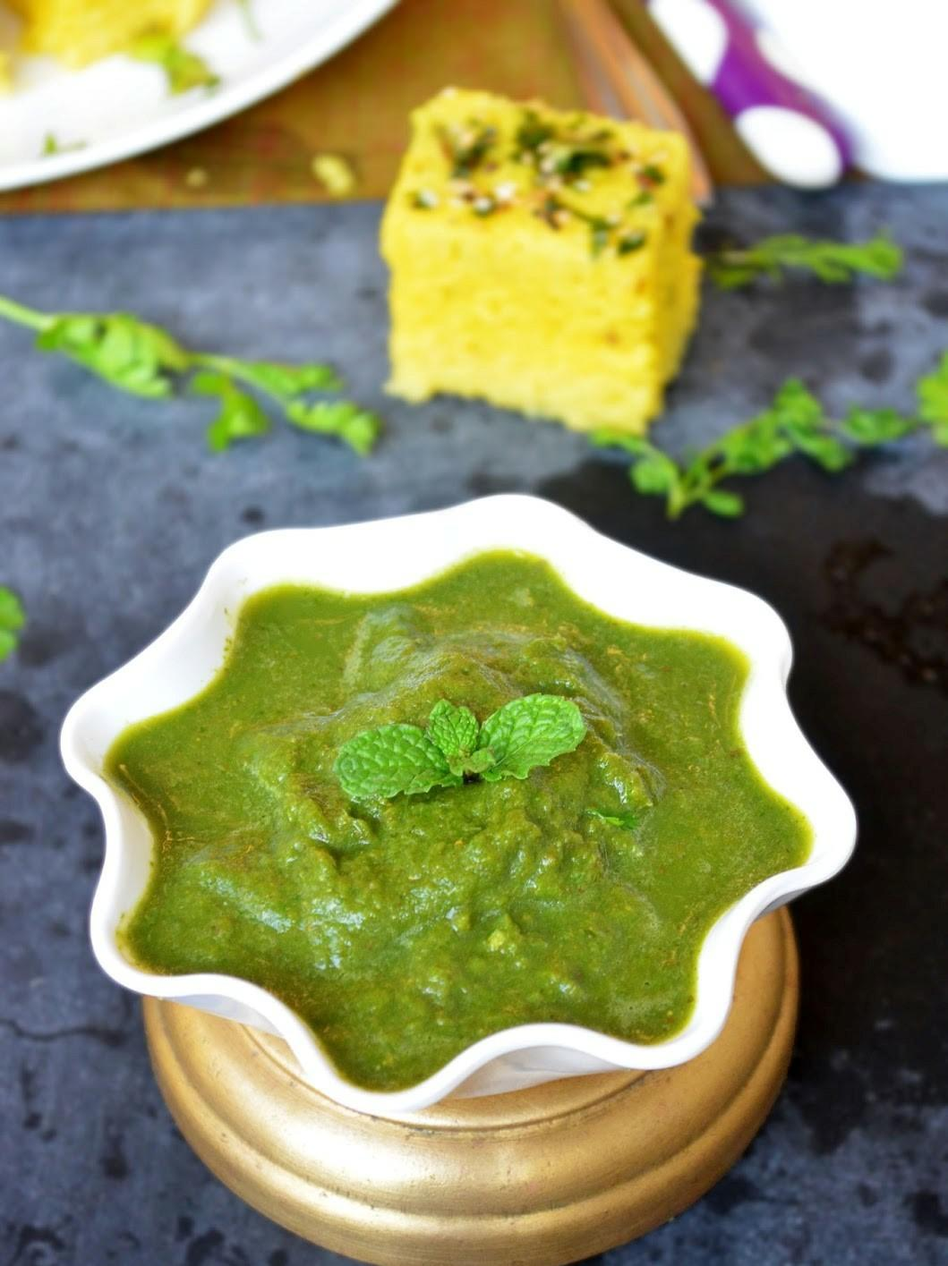GreenChutney: (108, 557, 808, 1090)
